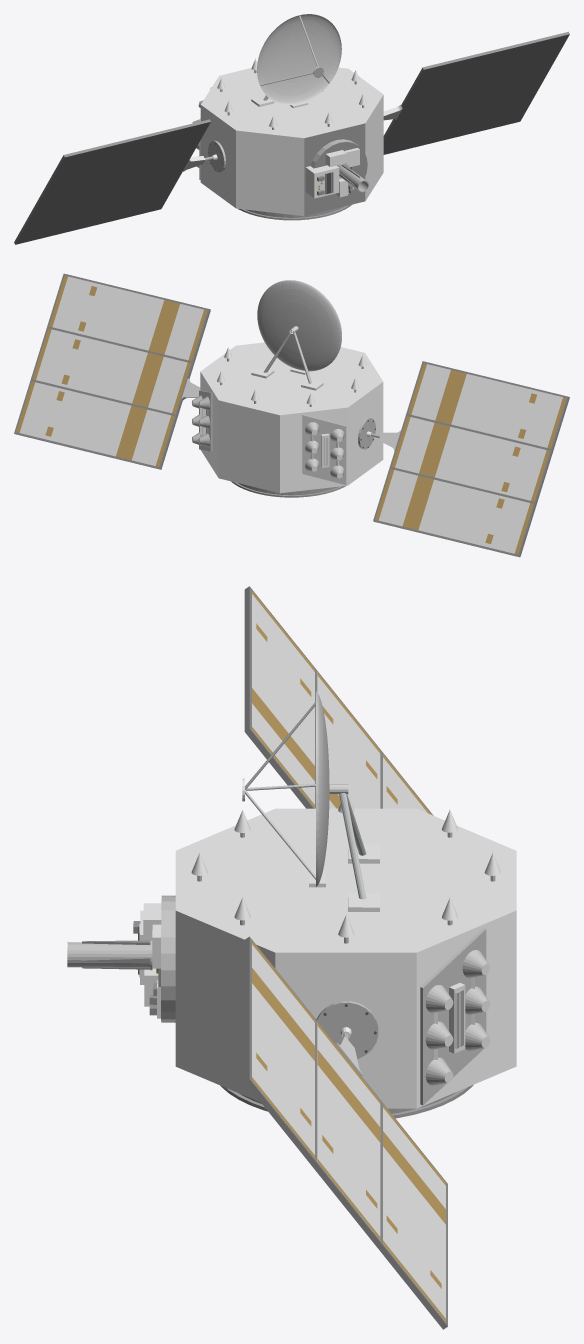
The model's file is Deep Space Climate Observatory (DSCOVR) (Triana).glb.
The picture shows the model from 3 angles, top to bottom: view 1: azimuth 30°, elevation 25°; view 2: azimuth 150°, elevation 25°; view 3: azimuth 270°, elevation 25°; orthographic projection. The views are drawn at different scales.
Visible parts, largest first — view 1: Layer_0; view 2: Layer_0; view 3: Layer_0.
Part boxes in pixels (box(x1,y1,x2,y2)): Layer_0: box(14, 14, 569, 244); Layer_0: box(14, 273, 569, 557); Layer_0: box(67, 586, 516, 1329).
Bounding box in the file's own units: 266 × 96.41 × 103.
